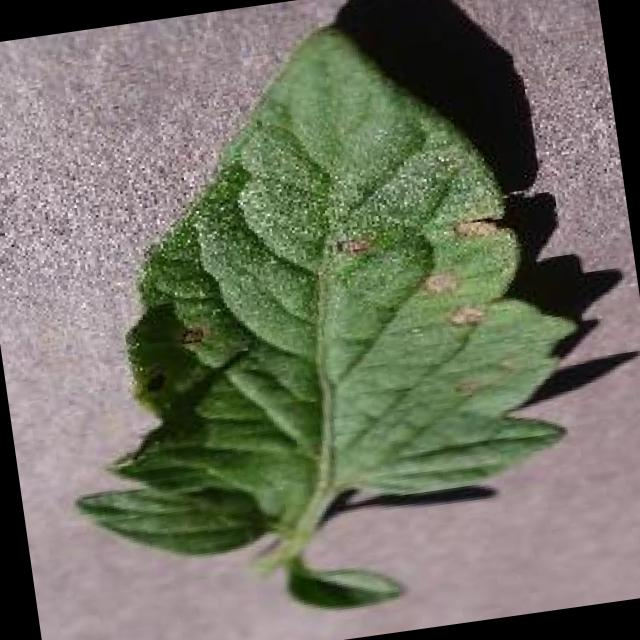Tomato_Early_Blight: (153, 174, 568, 499)
